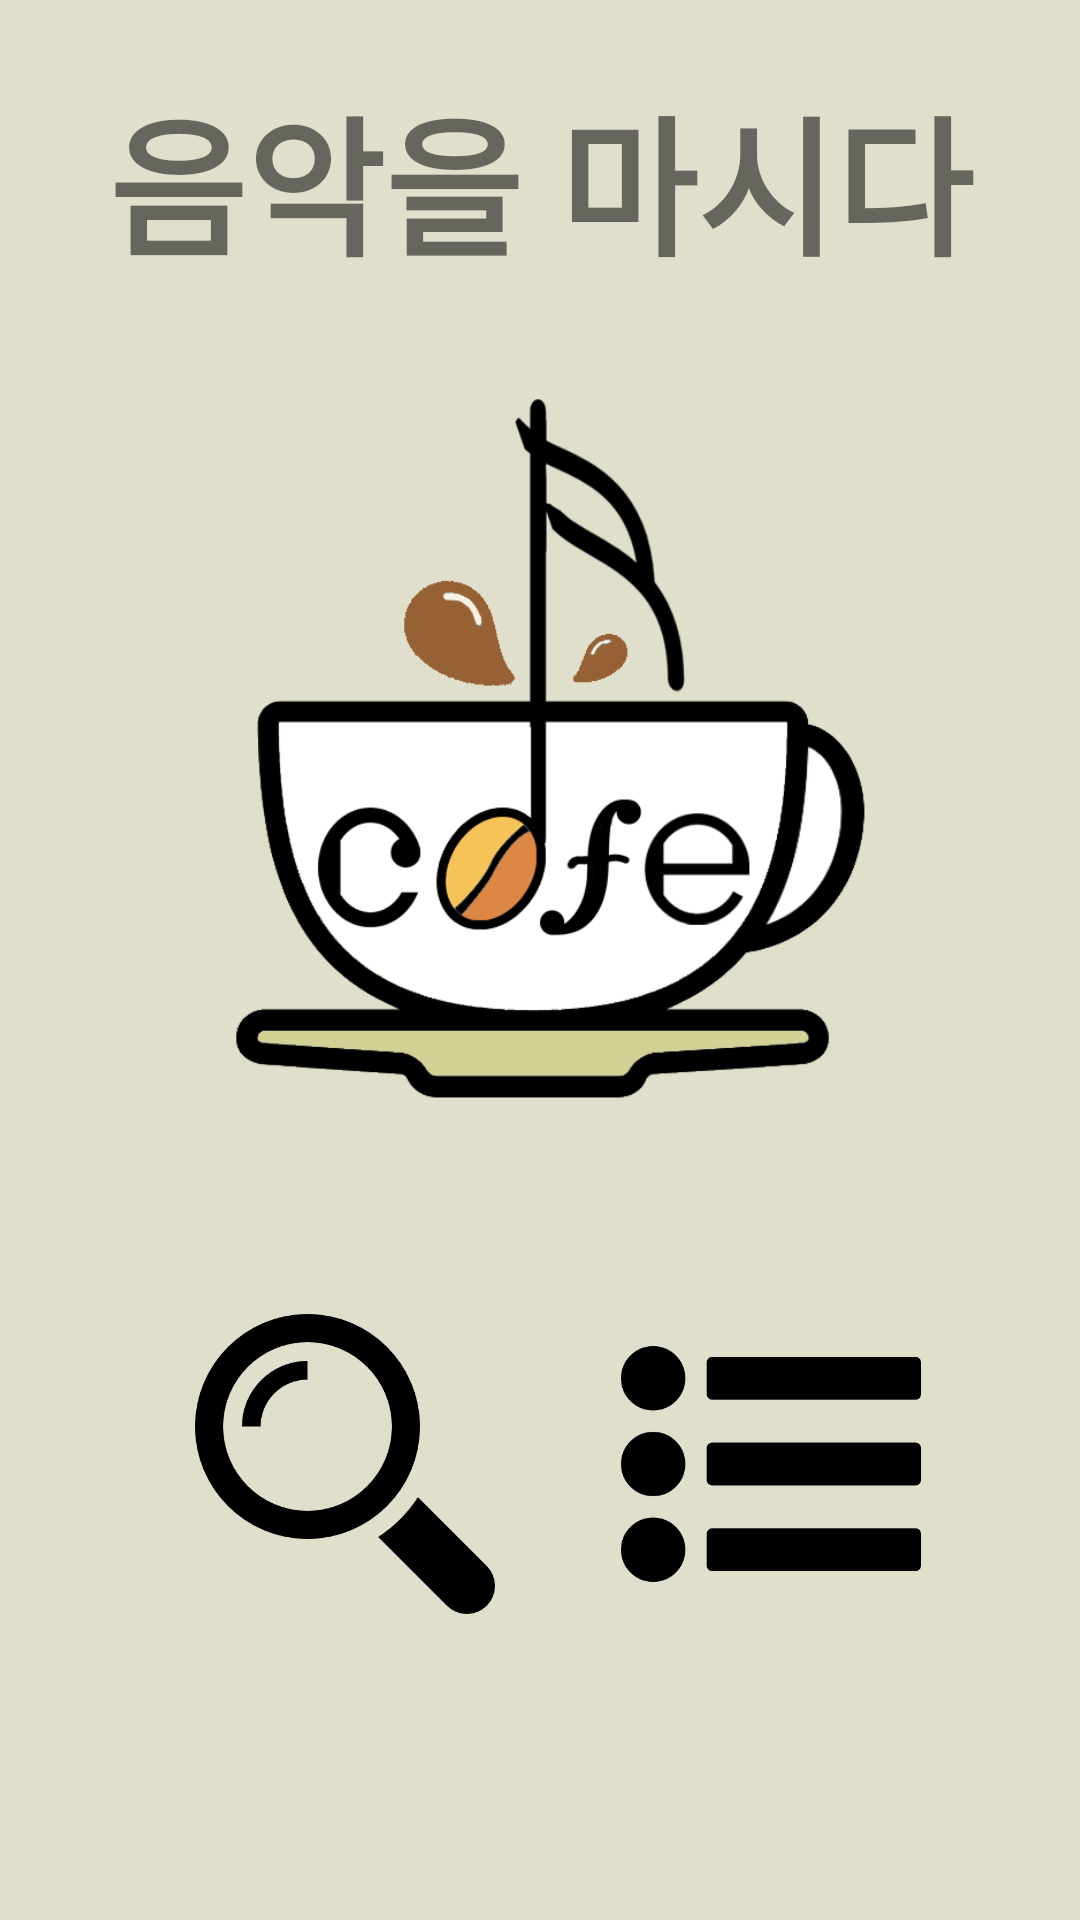

Screen size 1080px×1920px. Icon name, then its center in pixels as (x=x, y=y):
magnifier: (x=345, y=1464)
